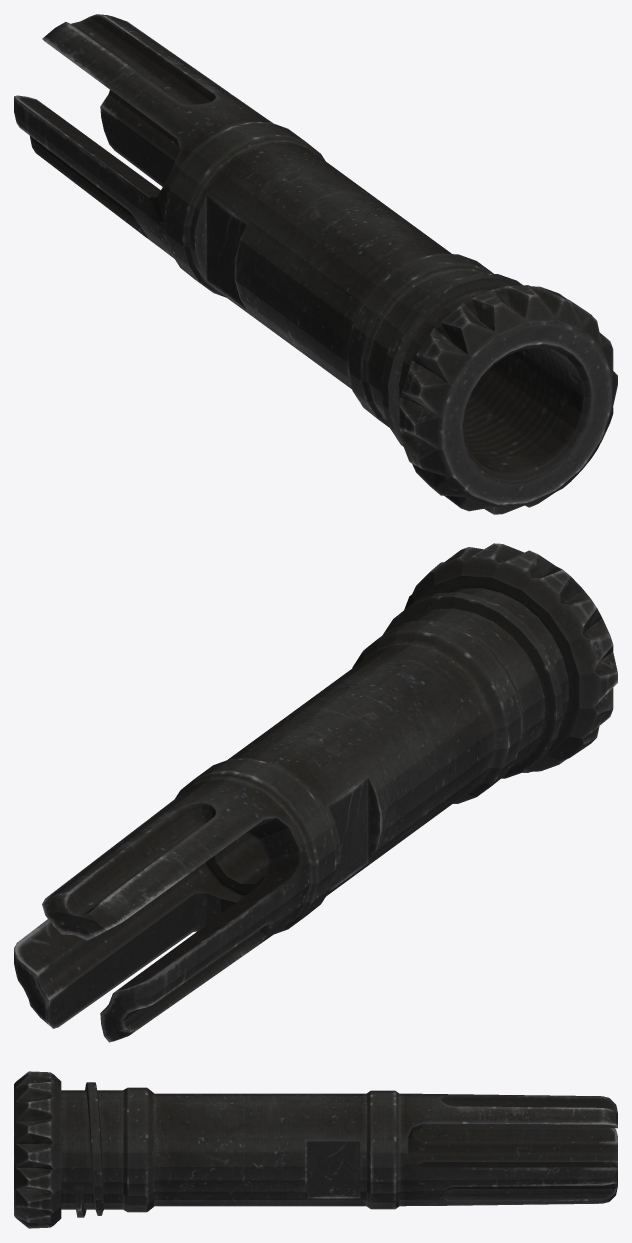
3 renders of one model, top to bottom at view 1: azimuth 30°, elevation 25°; view 2: azimuth 150°, elevation 25°; view 3: azimuth 270°, elevation 25°, orthographic. The views are drawn at different scales.
Parts seen in each view (by area): view 1: TW_618178aa1cb55961fa0fdc80_PZ_Import; view 2: TW_618178aa1cb55961fa0fdc80_PZ_Import; view 3: TW_618178aa1cb55961fa0fdc80_PZ_Import.
Part boxes in pixels (x1,y1,x2,y2): TW_618178aa1cb55961fa0fdc80_PZ_Import: (14,14,617,514); TW_618178aa1cb55961fa0fdc80_PZ_Import: (14,543,617,1042); TW_618178aa1cb55961fa0fdc80_PZ_Import: (14,1071,617,1228).
Size of the model in its own units: 0.0163 by 0.0625 by 0.0161.
Materials: 1 (1 with a texture image).
